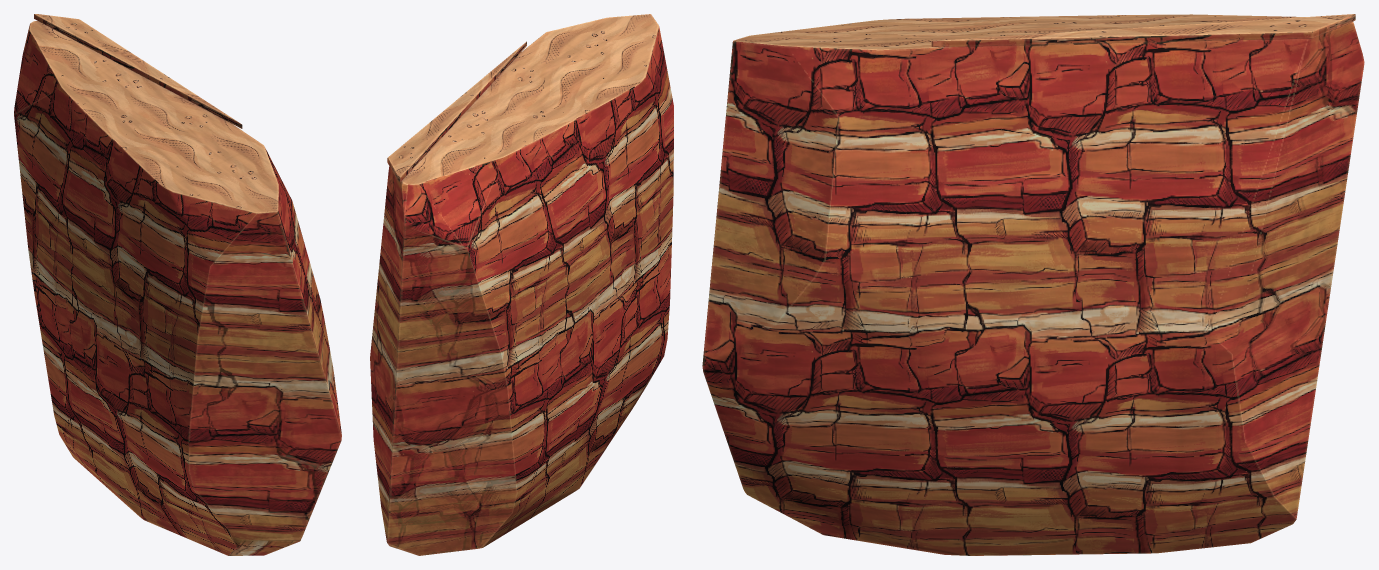
The model's file is v4_rocher_guee.glb.
The picture shows the model from 3 angles, left to right: view 1: azimuth 30°, elevation 25°; view 2: azimuth 150°, elevation 25°; view 3: azimuth 270°, elevation 25°; orthographic projection. The views are drawn at different scales.
Visible parts, largest first — view 1: v4_rocher_guee; view 2: v4_rocher_guee; view 3: v4_rocher_guee.
Boxes of the visible parts, x1=… form: v4_rocher_guee: x1=14, y1=14, x2=341, y2=555; v4_rocher_guee: x1=370, y1=14, x2=673, y2=555; v4_rocher_guee: x1=702, y1=14, x2=1364, y2=555.
Size of the model in its own units: 1.5 by 3.8 by 4.49.
1 material, 1 textured.
